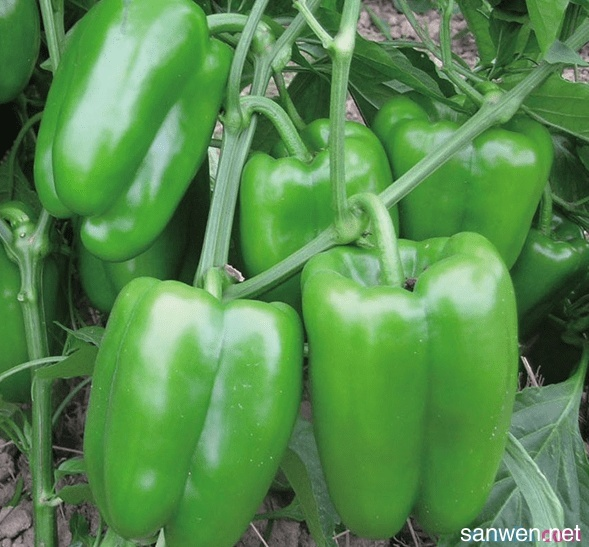fruit: (300, 230, 520, 542), (83, 277, 304, 547), (33, 1, 232, 263), (373, 96, 554, 271), (237, 116, 400, 301), (76, 148, 211, 314), (507, 210, 589, 323), (1, 241, 57, 404), (1, 2, 42, 107)
pedicle: (363, 264, 430, 291), (534, 218, 569, 238), (271, 149, 323, 162)
